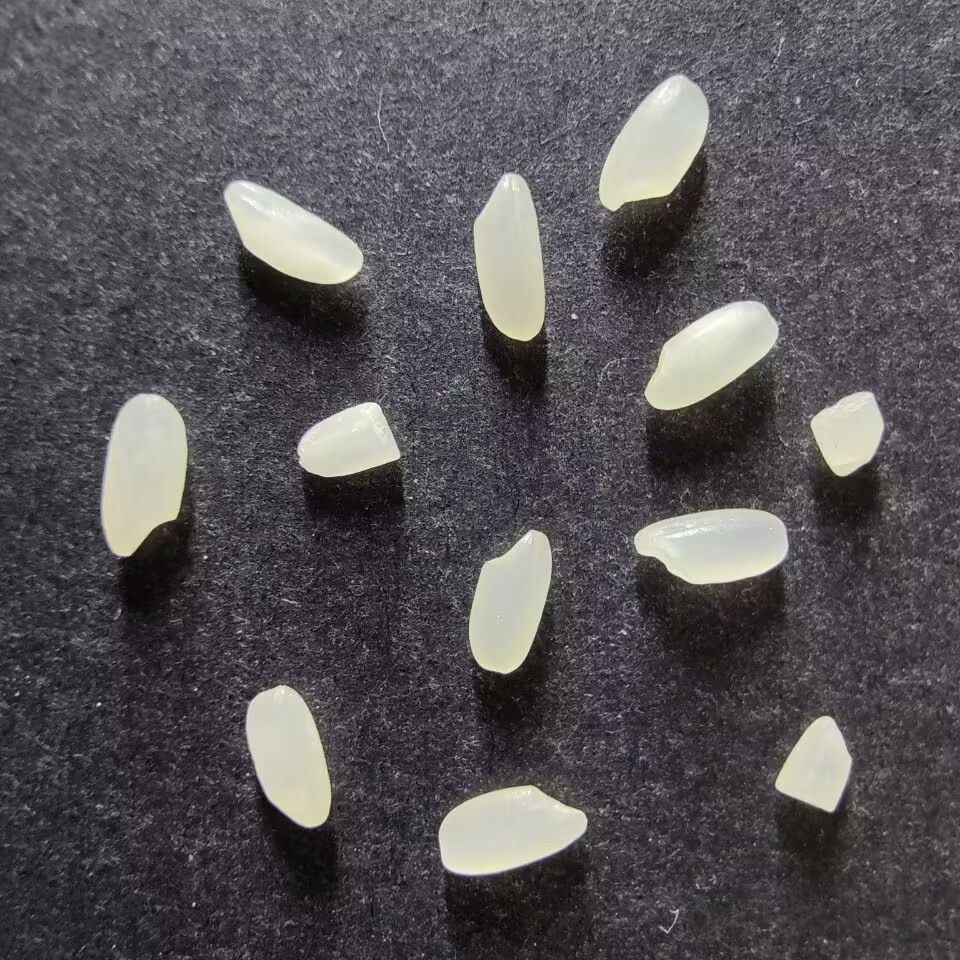broken: (296, 401, 402, 479), (774, 714, 853, 812), (809, 390, 885, 478)
rice: (597, 73, 709, 211), (644, 300, 779, 411), (222, 180, 363, 286), (100, 393, 187, 559), (437, 785, 588, 875), (244, 684, 332, 829), (471, 172, 545, 342), (467, 528, 552, 673), (633, 507, 788, 585)
